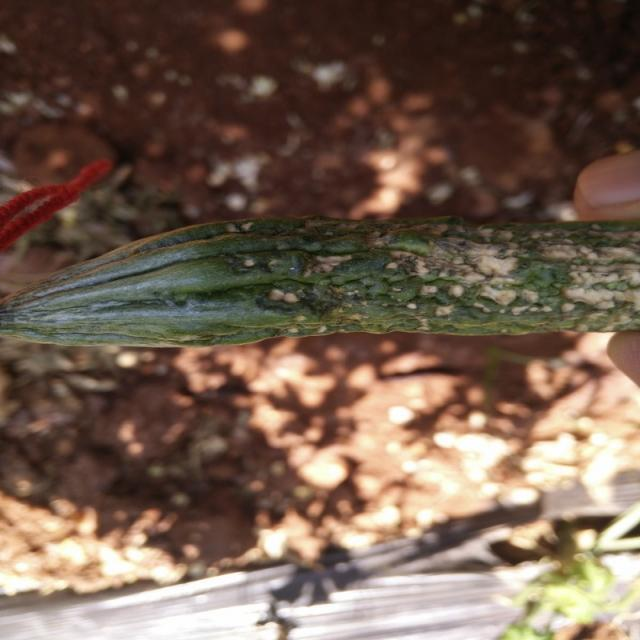Fruit fly: (218, 214, 640, 347)
